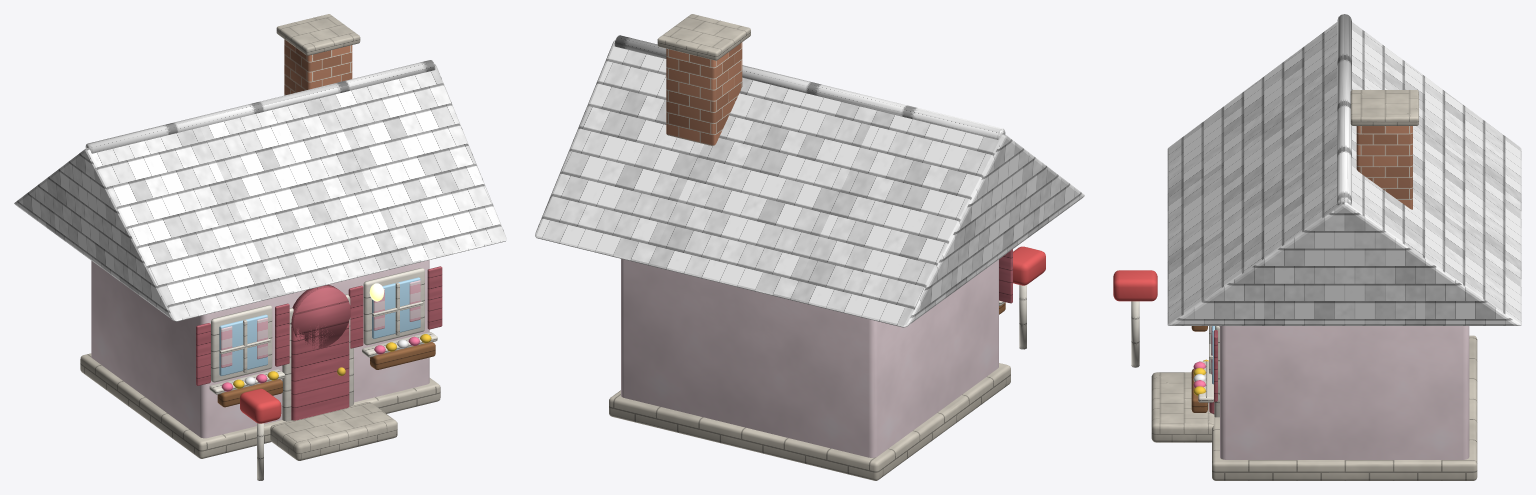
Rendered from house_neighbor.glb.
3 views of the same model, side by side, from view 1: azimuth 30°, elevation 25°; view 2: azimuth 150°, elevation 25°; view 3: azimuth 270°, elevation 25° (orthographic). The views are drawn at different scales.
Visible parts, largest first — view 1: house_neighbor; view 2: house_neighbor; view 3: house_neighbor.
Part boxes in pixels (x1,y1,x2,y2): house_neighbor: (14, 14, 506, 480); house_neighbor: (535, 14, 1084, 480); house_neighbor: (1113, 14, 1521, 480).
Bounding box in the file's own units: 5.53 × 4.87 × 5.08.
Materials: 15 (8 with a texture image).
